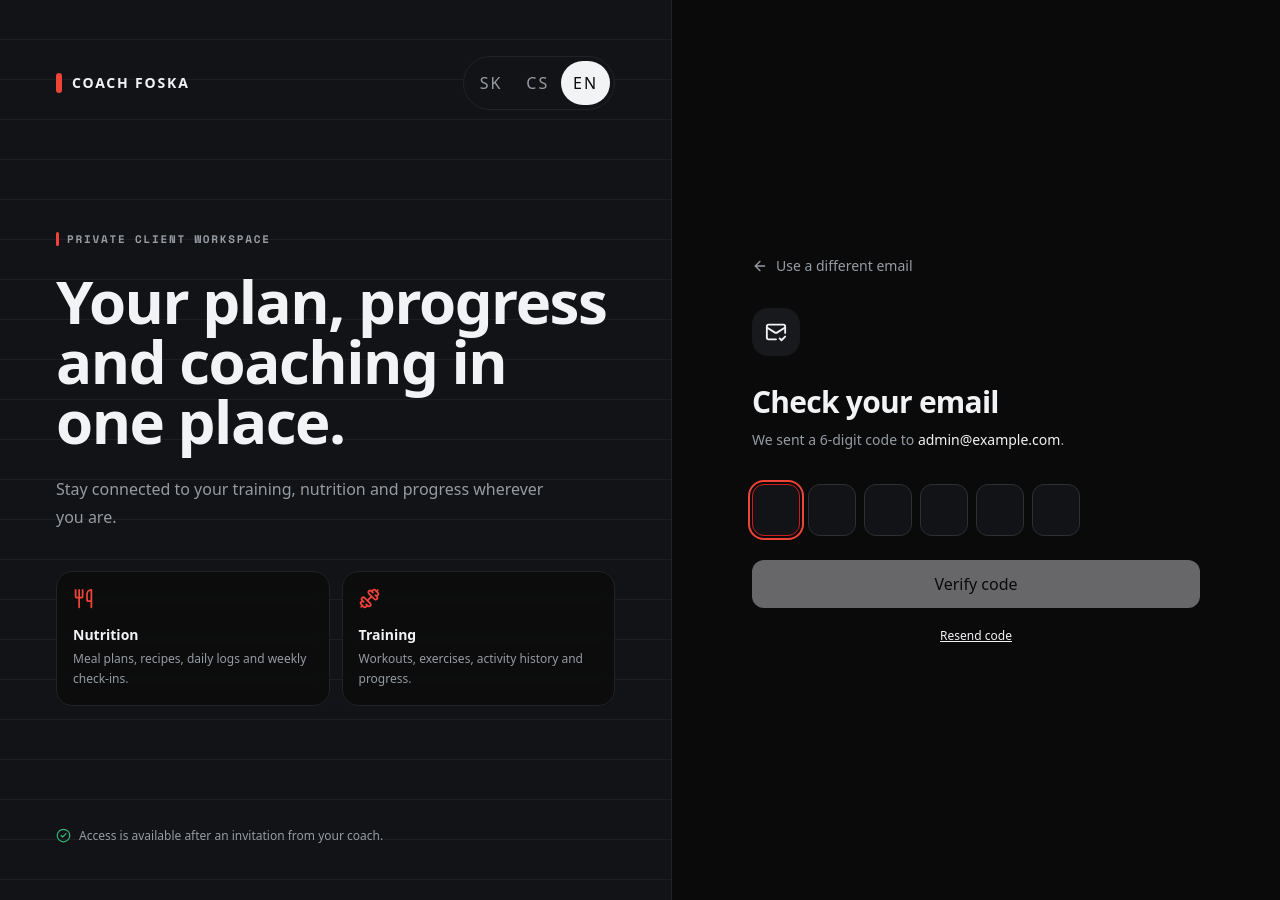
Test: Verify › shows error and clears loading when verifyOtp returns an error
The width and height of the screenshot is (1280, 900).
In the 1st field: (776, 510) [752,484,800,536], type "1"
In the 2nd field: (832, 510) [808,484,856,536], type "2"
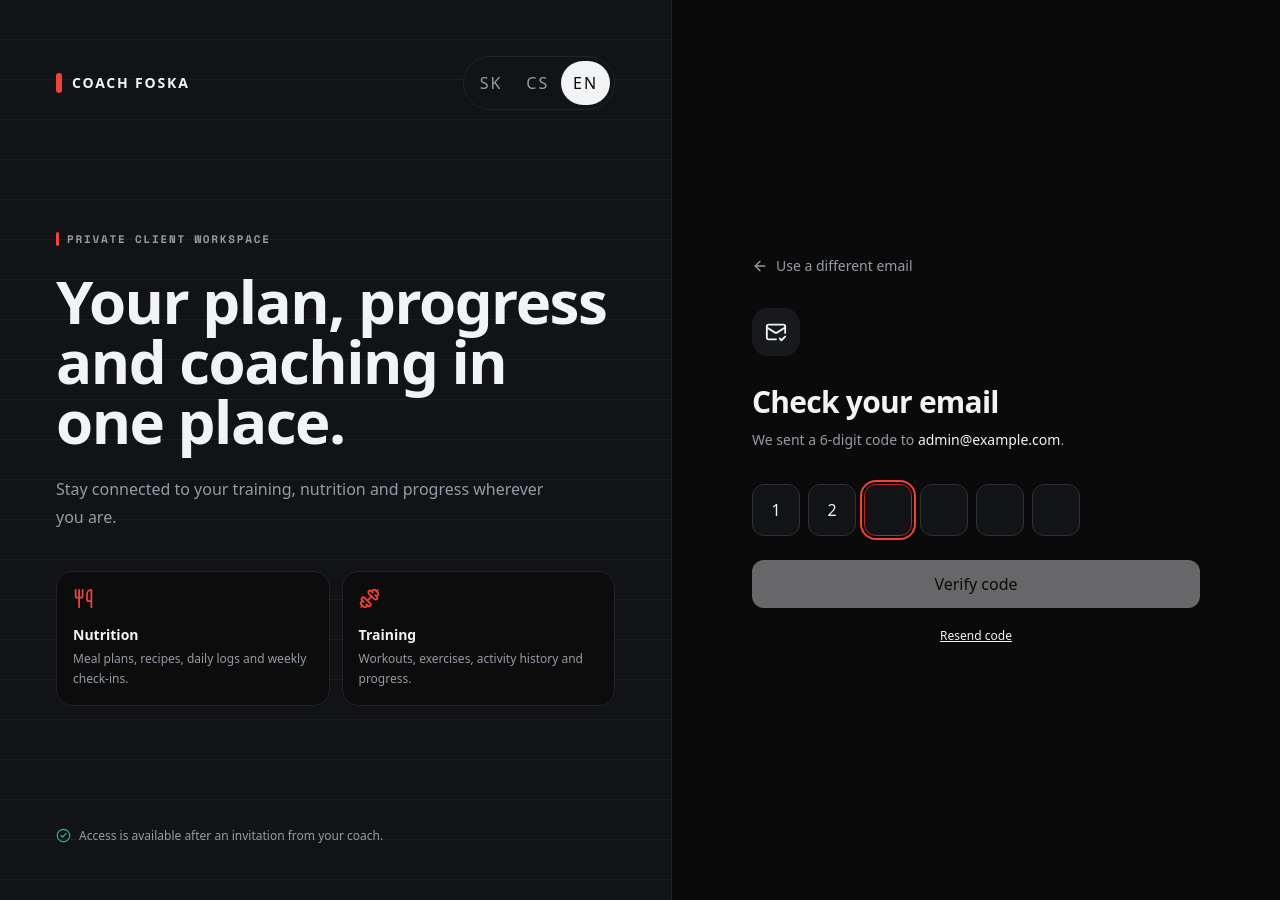
In the 3rd field: (888, 510) [864,484,912,536], type "3"
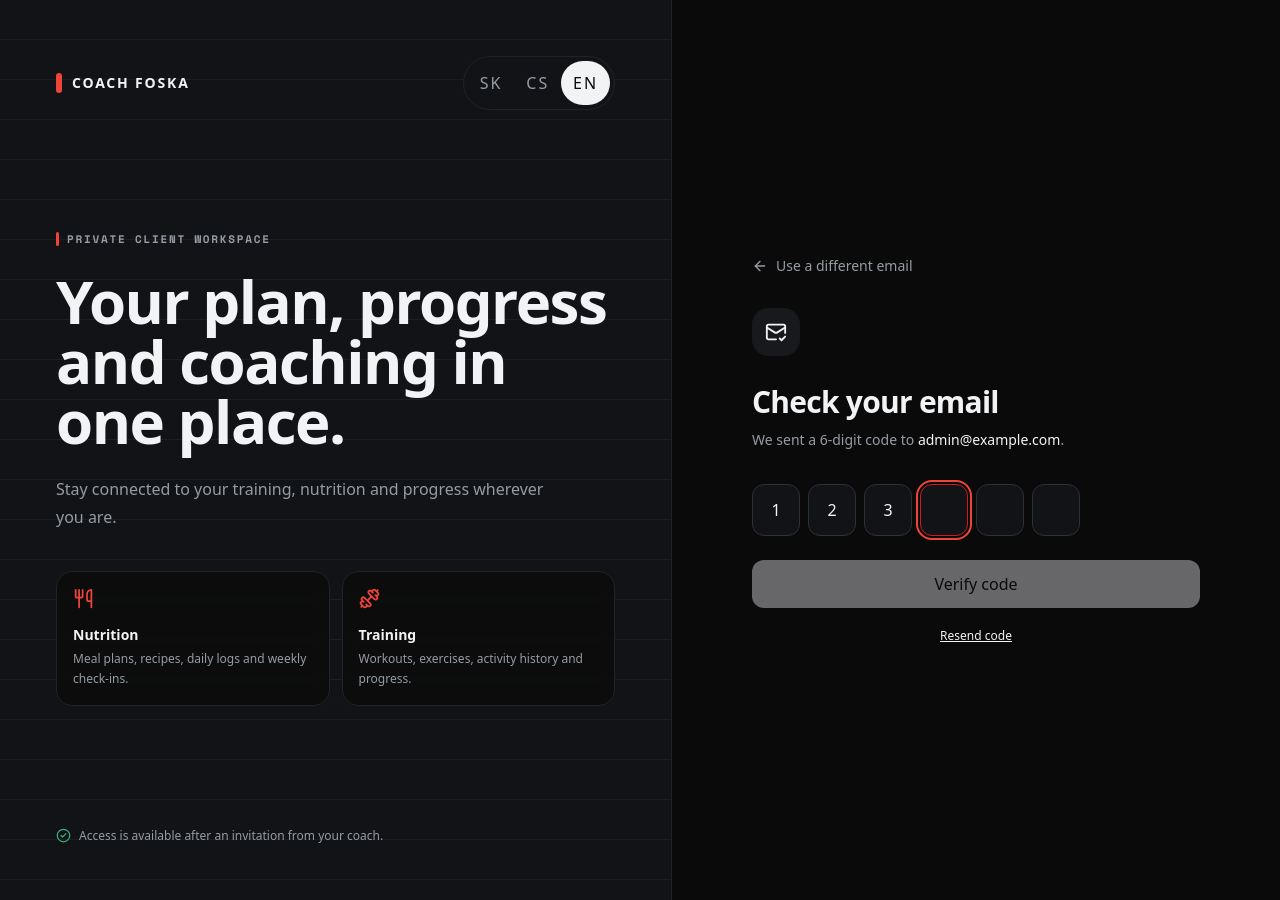
In the 4th field: (944, 510) [920,484,968,536], type "4"
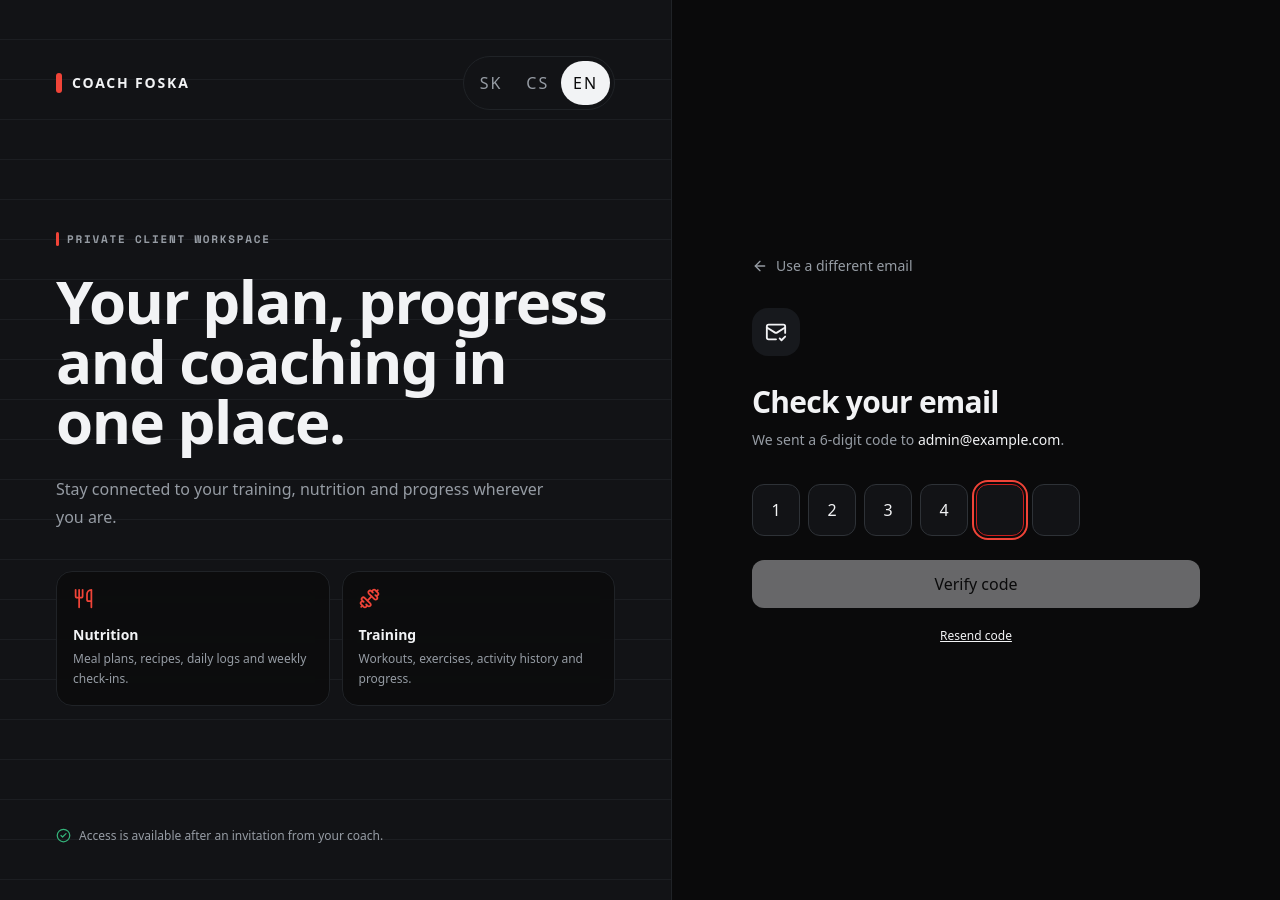
In the 5th field: (1000, 510) [976,484,1024,536], type "5"
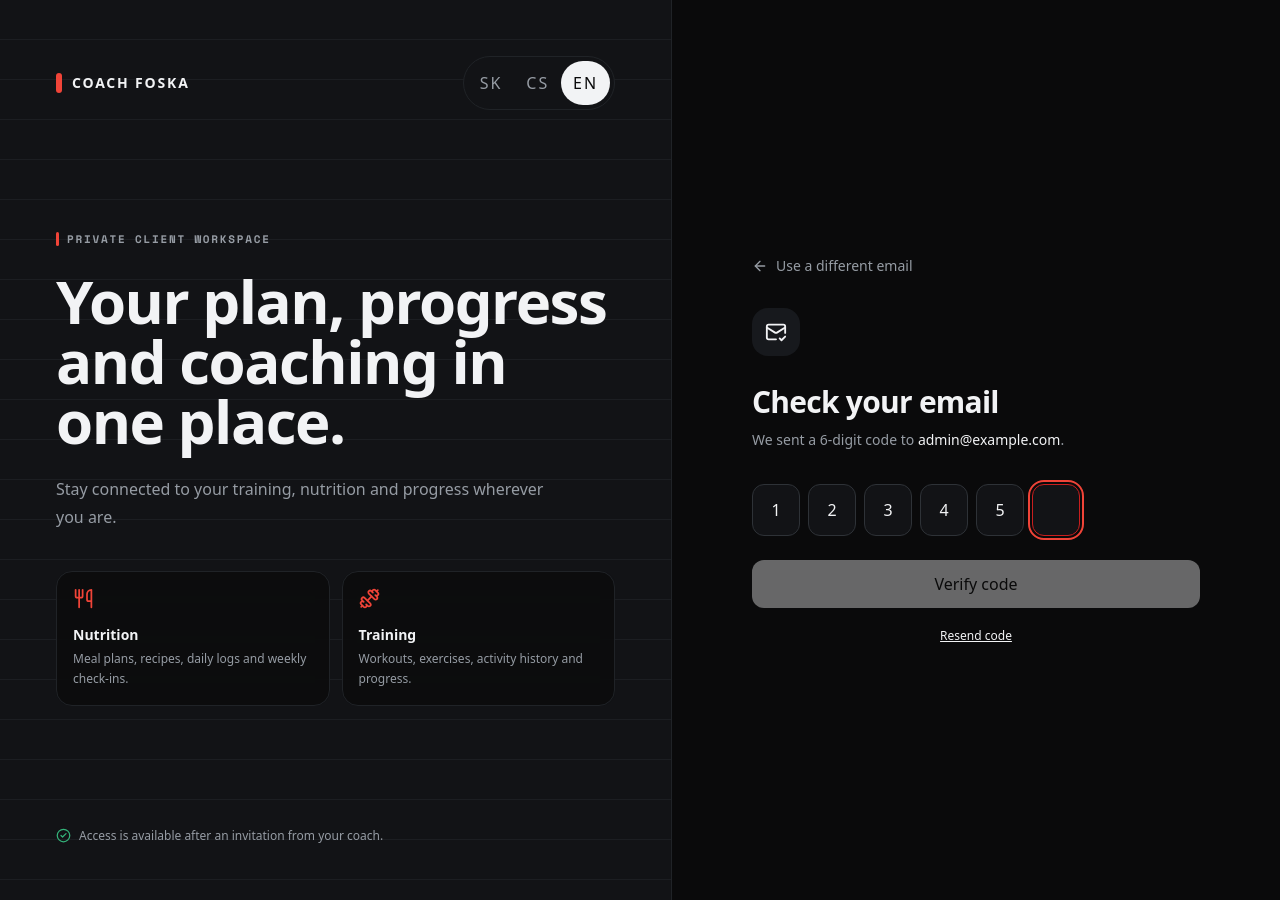
In the 6th field: (1056, 510) [1032,484,1080,536], type "6"
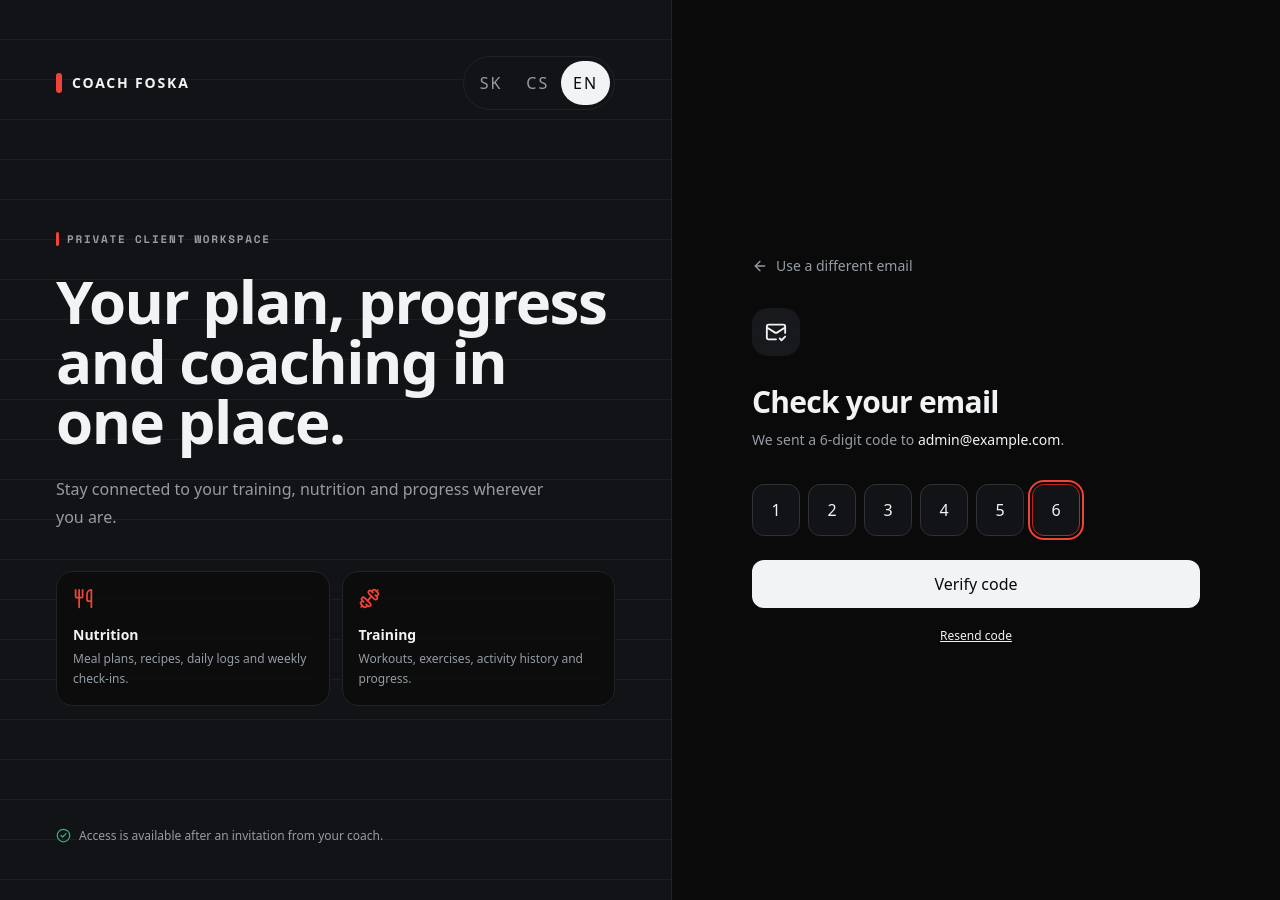
Click the button "Verify code": (976, 584) [752,560,1200,608]
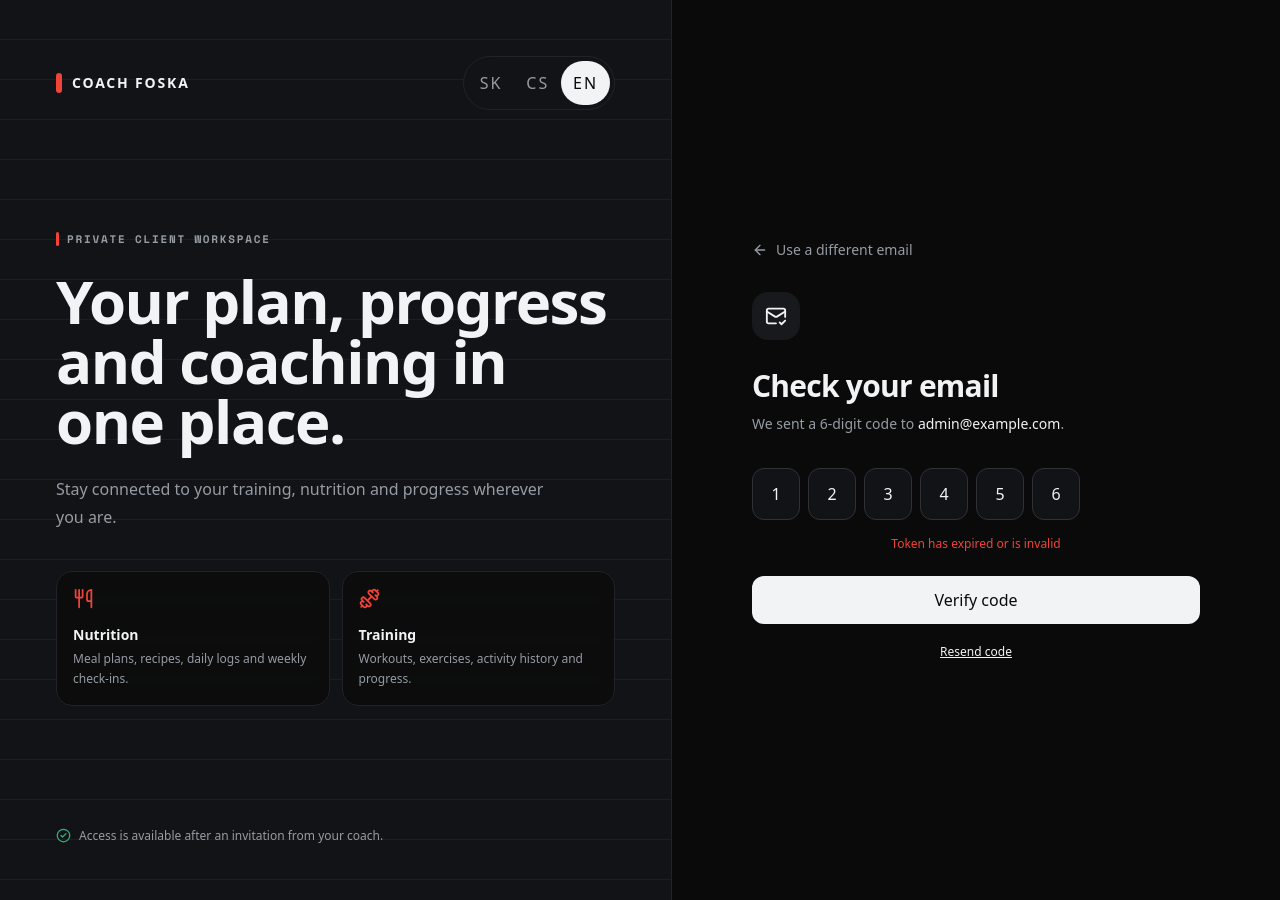
Now the button "Verify code" is enabled, box [752,576,1200,624]
Now the text "Token has expired or is invalid" is shown, box [891,535,1061,552]
